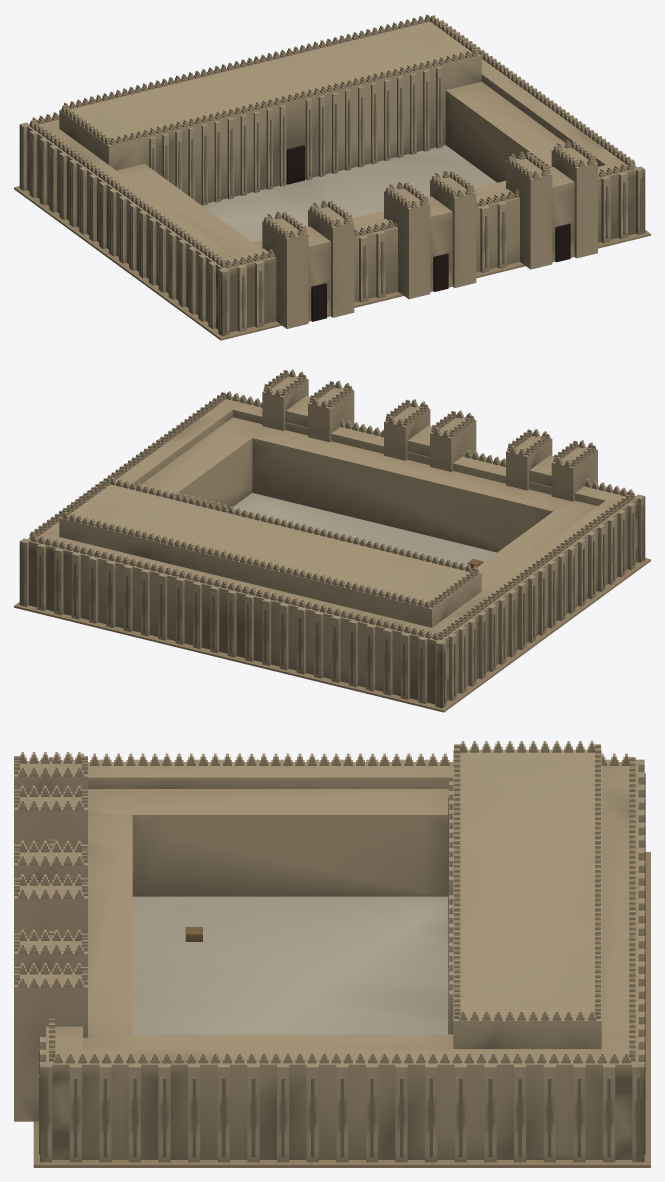
The model's file is ninurta-temple.glb.
The picture shows the model from 3 angles, top to bottom: view 1: azimuth 30°, elevation 25°; view 2: azimuth 150°, elevation 25°; view 3: azimuth 270°, elevation 25°; orthographic projection. The views are drawn at different scales.
Parts seen in each view (by area): view 1: p1_court and cella, p2_gate towers, p0_walls; view 2: p1_court and cella, p0_walls, p2_gate towers; view 3: p1_court and cella, p0_walls, p2_gate towers.
Boxes of the visible parts, x1,y1,x2,y2 form: p1_court and cella: (59, 21, 565, 255); p2_gate towers: (29, 14, 635, 328); p0_walls: (14, 22, 650, 340); p1_court and cella: (59, 417, 597, 627); p0_walls: (14, 394, 650, 712); p2_gate towers: (29, 369, 635, 640); p1_court and cella: (83, 749, 601, 1048); p0_walls: (33, 759, 650, 1167); p2_gate towers: (14, 741, 635, 1121).
Bounding box in the file's own units: 60 × 13.05 × 51.6.
